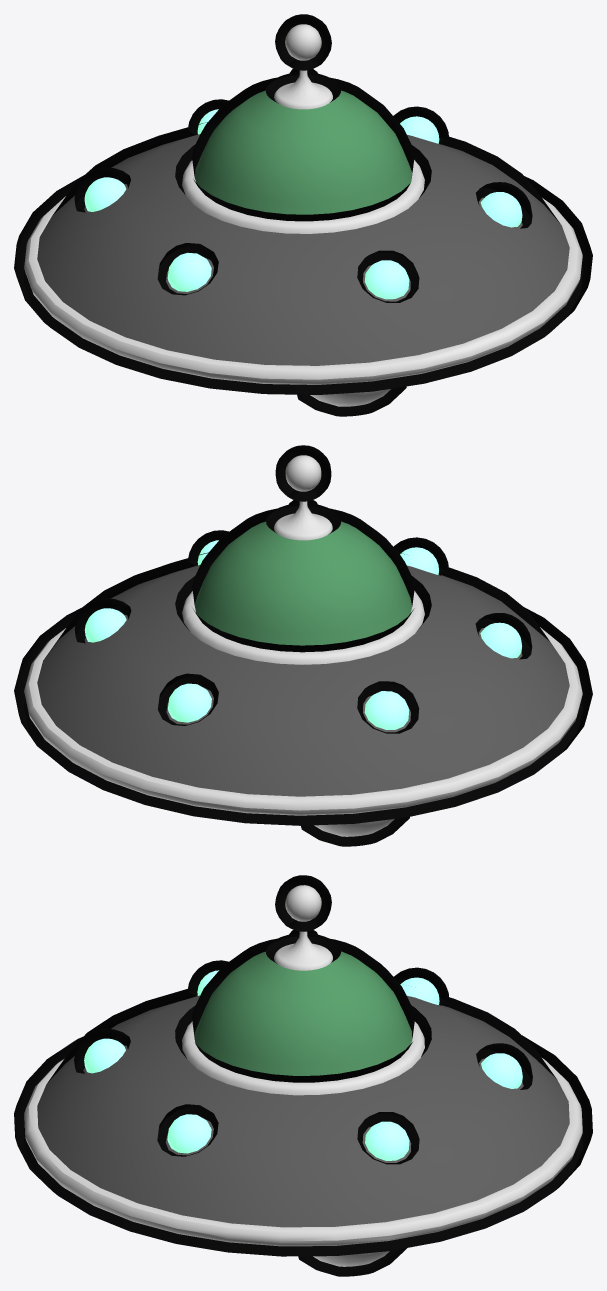
The model's file is UFO.fbx.
3 views of the same model, one above another, from view 1: azimuth 30°, elevation 25°; view 2: azimuth 150°, elevation 25°; view 3: azimuth 270°, elevation 25° (orthographic).
Parts seen in each view (by area): view 1: UFO; view 2: UFO; view 3: UFO.
Part boxes in pixels (left/top/right/bottom): UFO: left=14, top=14, right=592, bottom=416; UFO: left=14, top=445, right=592, bottom=846; UFO: left=14, top=875, right=592, bottom=1276.
Size of the model in its own units: 295 by 188 by 295.
